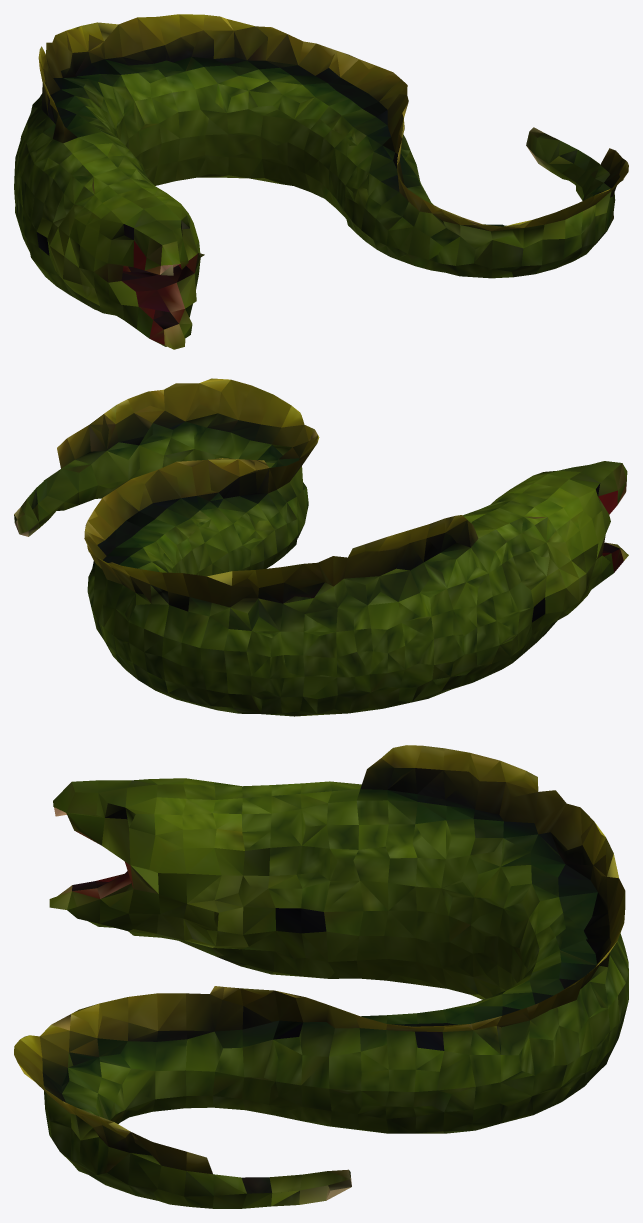
File: moray_eel.glb
The picture shows the model from 3 angles, top to bottom: view 1: azimuth 30°, elevation 25°; view 2: azimuth 150°, elevation 25°; view 3: azimuth 270°, elevation 25°; orthographic projection. The views are drawn at different scales.
Bounding box in the file's own units: 0.9927 × 0.317 × 0.8236.
1 material, 1 textured.
